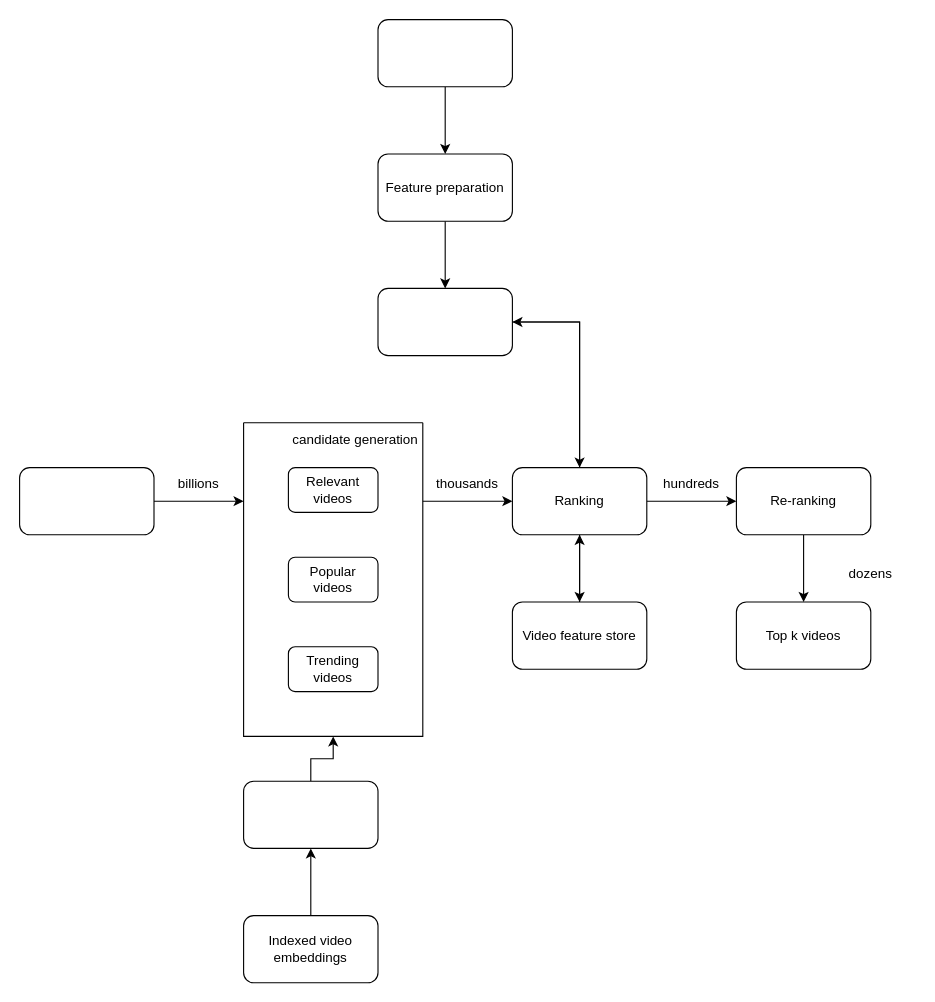
The diagram is 935 pixels wide and 1002 high, and some of its shapes have lost their labels. The centre of each missing label's shape, as x and y in pixels:
"ANN service" belongs at (310,814).
"User" belongs at (444,52).
"User features" belongs at (444,321).
"Video corpus" belongs at (86,500).
